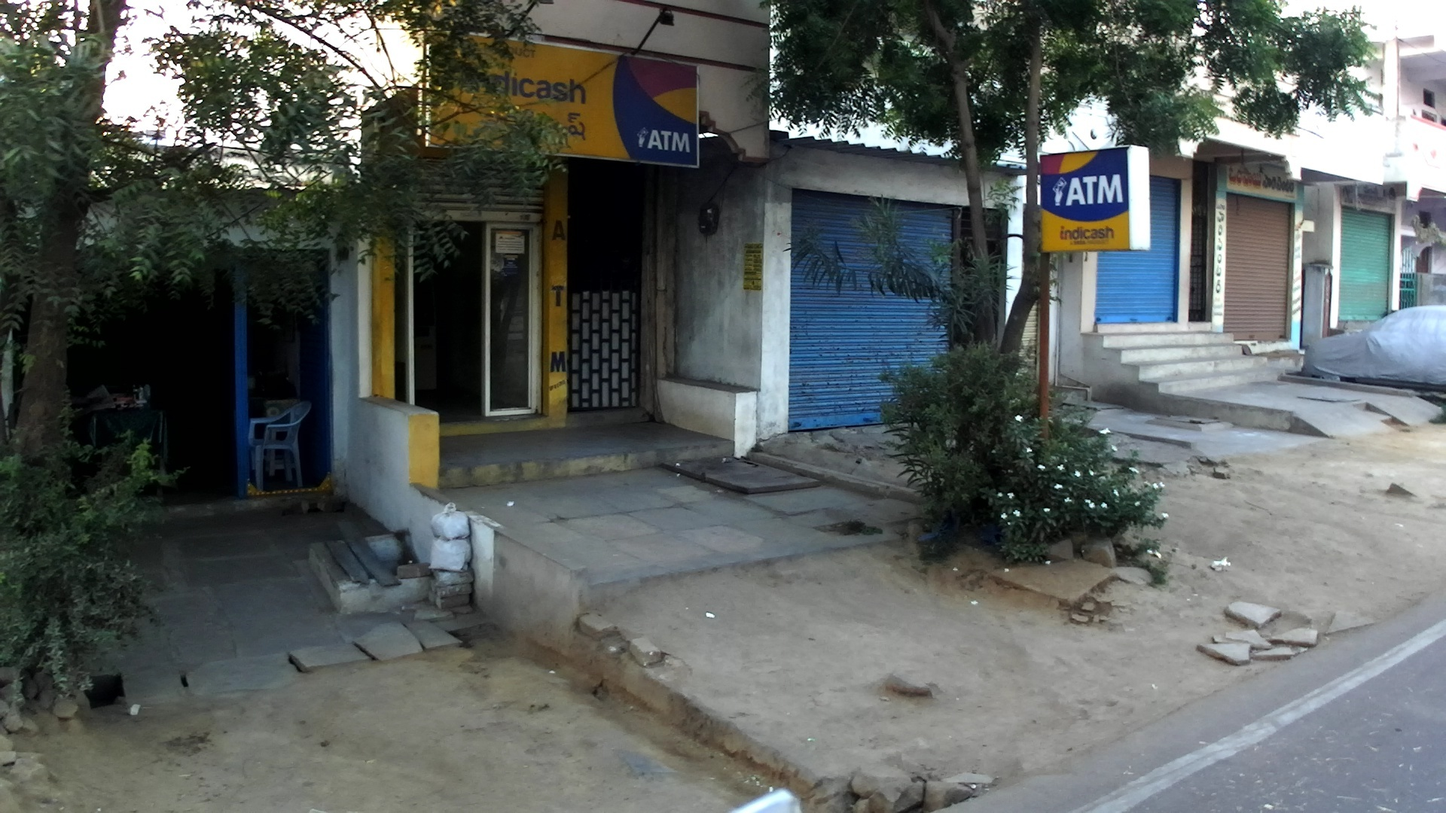car: (1297, 299, 1444, 385)
